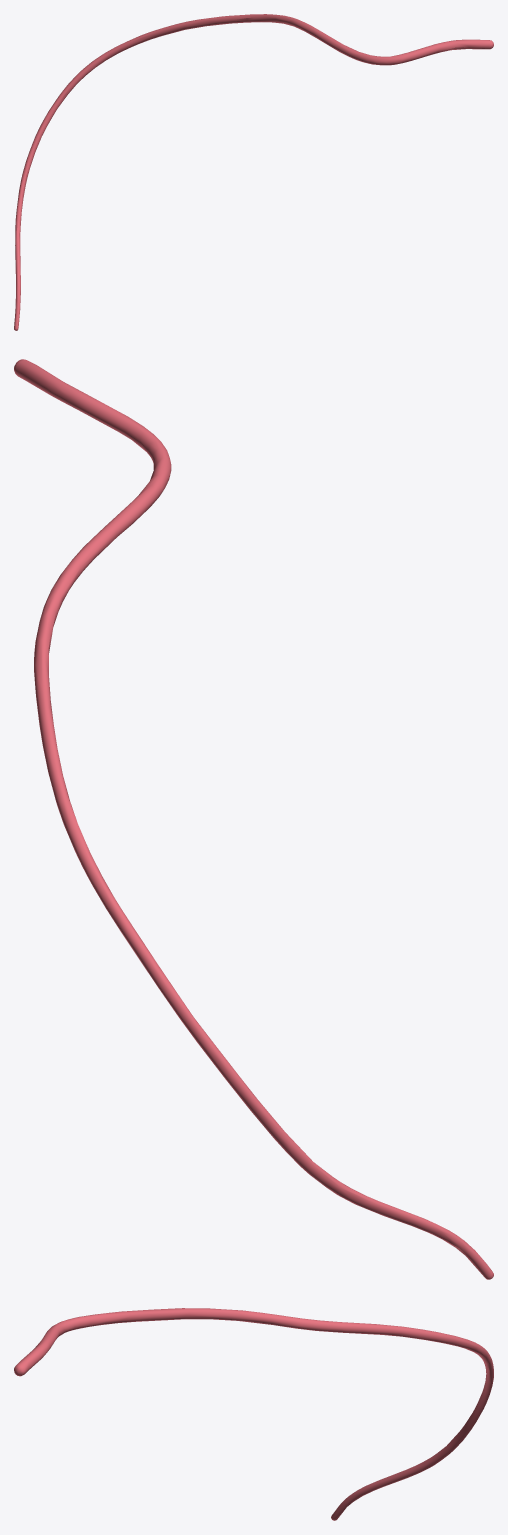
File: fma4634_fj1967.glb
3 renders of one model, top to bottom at view 1: azimuth 30°, elevation 25°; view 2: azimuth 150°, elevation 25°; view 3: azimuth 270°, elevation 25°, orthographic. The views are drawn at different scales.
Parts seen in each view (by area): view 1: FMA4634_FJ1967; view 2: FMA4634_FJ1967; view 3: FMA4634_FJ1967.
Boxes of the visible parts, box(x1,y1,x2,y2) form: FMA4634_FJ1967: box(14, 14, 493, 330); FMA4634_FJ1967: box(14, 359, 493, 1279); FMA4634_FJ1967: box(14, 1308, 493, 1520).
Bounding box in the file's own units: 0.085 × 0.0657 × 0.0742.
